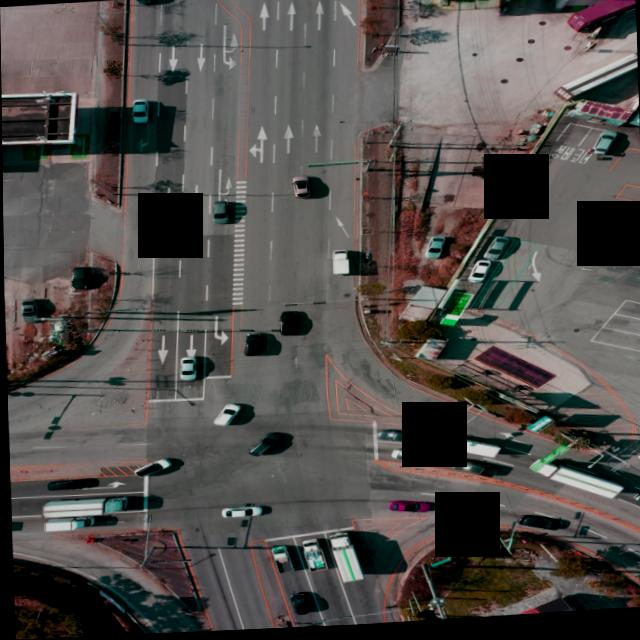car: (375, 428, 425, 448), (518, 516, 568, 535), (452, 459, 495, 481), (388, 448, 435, 467), (246, 433, 280, 457), (130, 457, 171, 476), (386, 499, 436, 514), (46, 476, 98, 490), (212, 404, 242, 428), (593, 134, 621, 159), (485, 240, 509, 263), (277, 310, 298, 336), (466, 263, 490, 285), (220, 508, 261, 520), (289, 592, 309, 616), (70, 266, 88, 290), (178, 356, 196, 379), (241, 333, 259, 356), (424, 241, 444, 261), (132, 101, 150, 123), (211, 201, 228, 224), (293, 179, 309, 199), (21, 303, 37, 323), (633, 494, 640, 512), (10, 520, 22, 530), (633, 449, 640, 465)
medium_truck: (525, 456, 623, 505), (552, 56, 636, 98), (41, 492, 128, 517), (326, 531, 366, 584), (440, 436, 503, 465)
small_truck: (300, 540, 326, 573), (42, 517, 91, 532), (271, 545, 294, 573), (331, 251, 351, 277), (496, 0, 516, 18), (627, 112, 639, 131)
